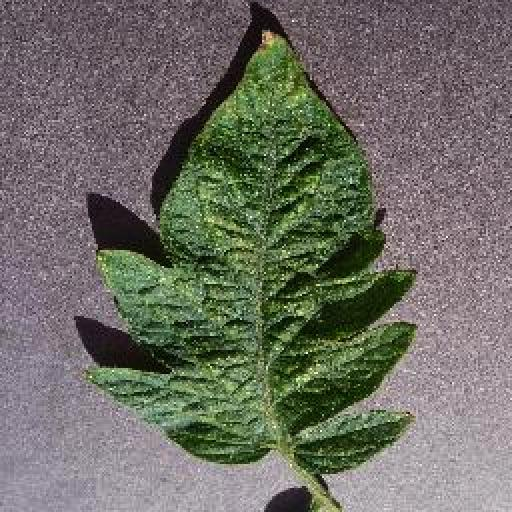disease_tomato: (88, 23, 418, 473)
